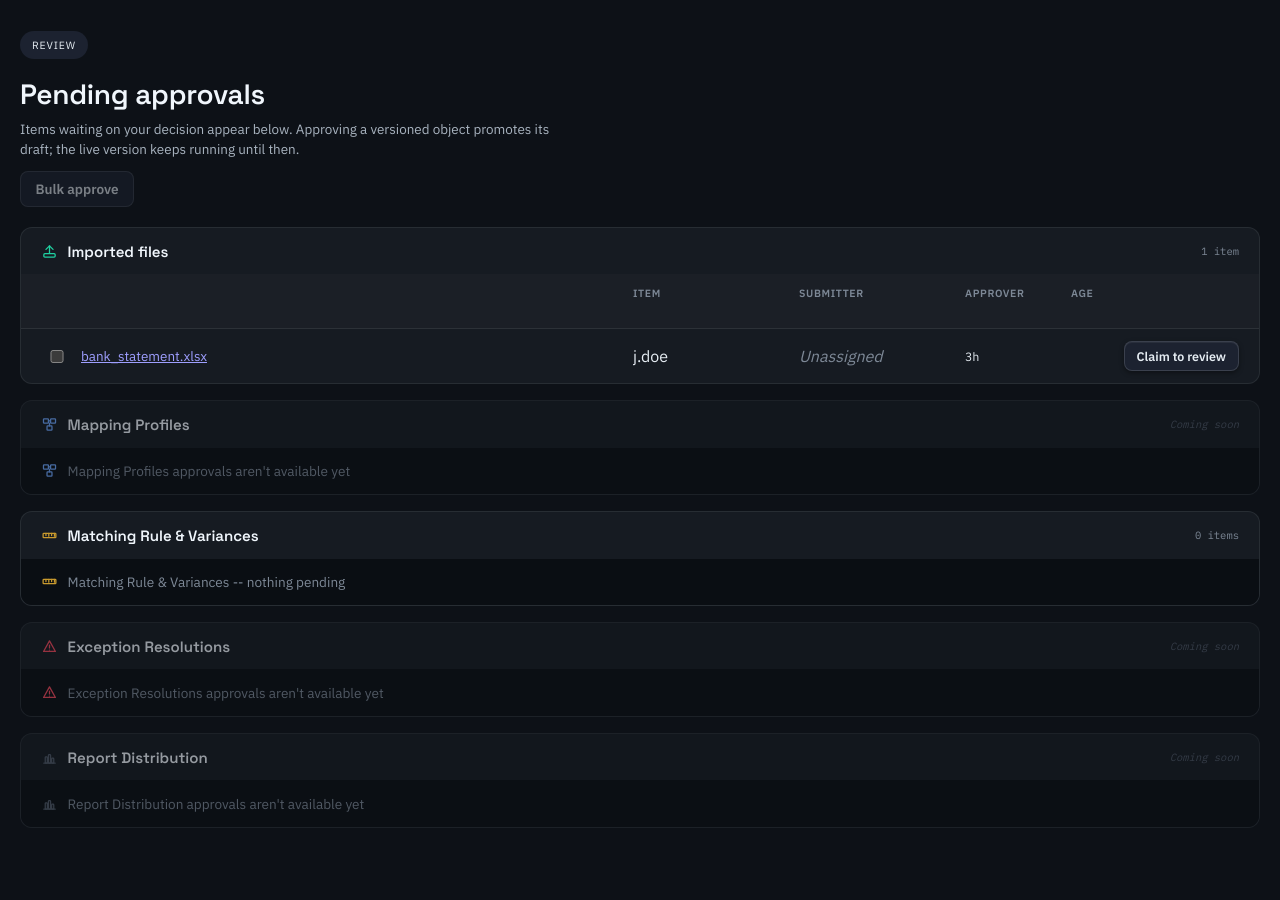
Test: PendingApprovalsInbox (N1) › shows an action error when claiming a row fails
This screenshot has width=1280, height=900.
Expected: the link "bank_statement.xlsx" is shown, [81,347,207,365]
What coordinates should you click on to do the following:
click the button "Claim to review"
I would click on:
 (1181, 356)
Its box is [1124,341,1239,371].
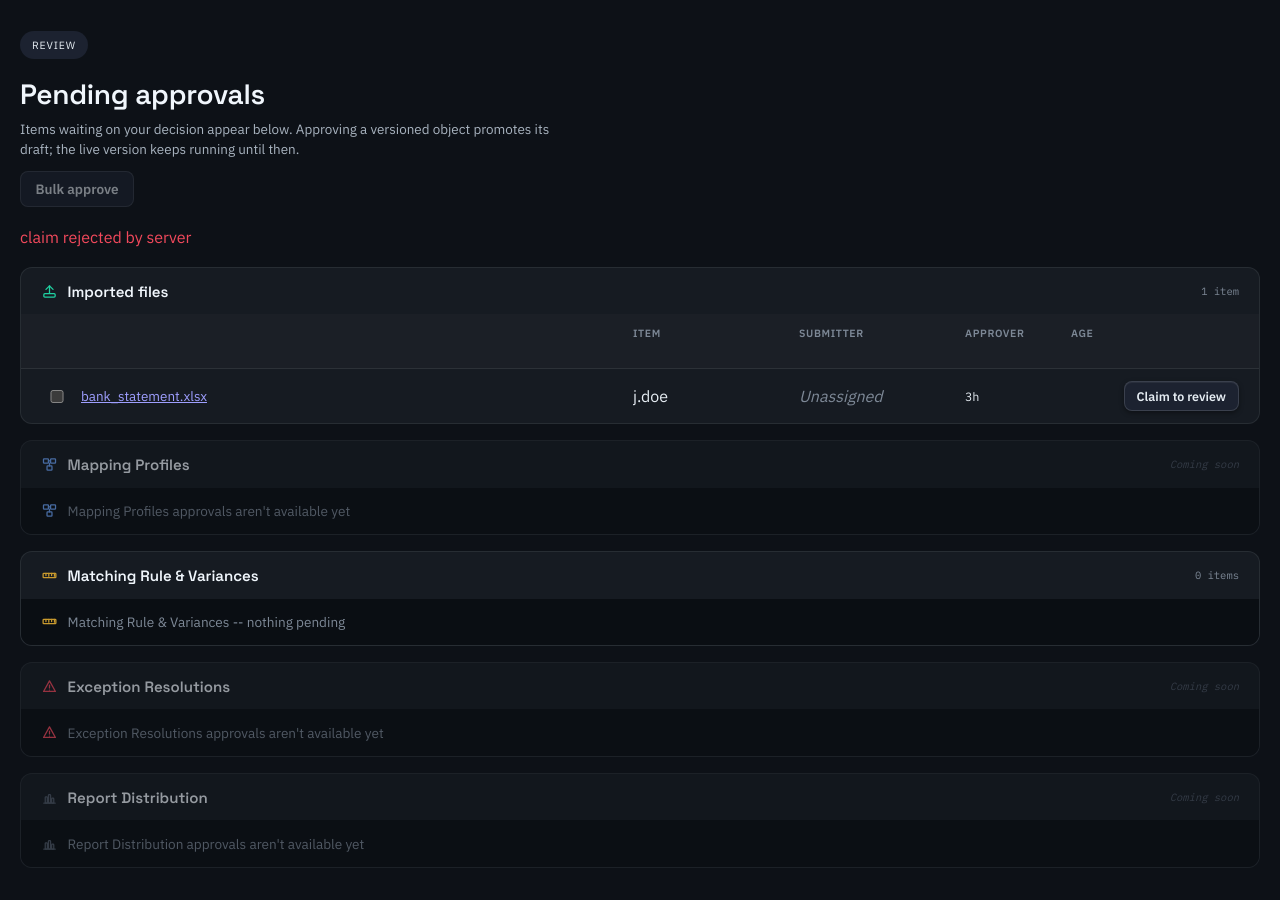
Expected: the message reads "claim rejected by server", [20,227,192,247]
